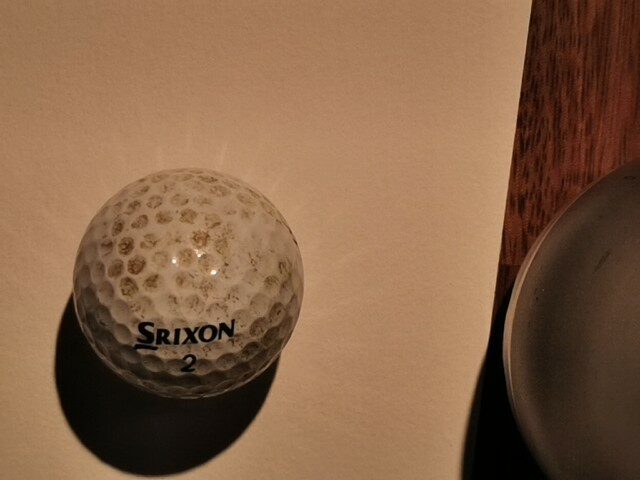Ball: (72, 168, 304, 400)
Srixon: (133, 318, 235, 351)
